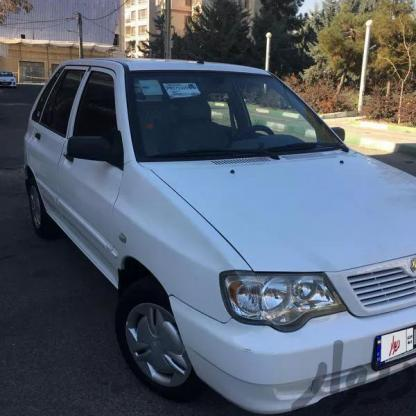Car: (14, 50, 411, 399), (0, 58, 20, 112)
